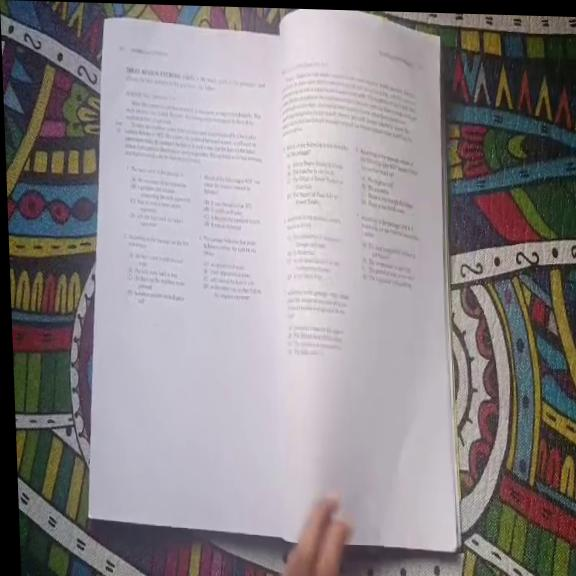Kertas: (90, 20, 287, 535), (281, 9, 459, 551)
